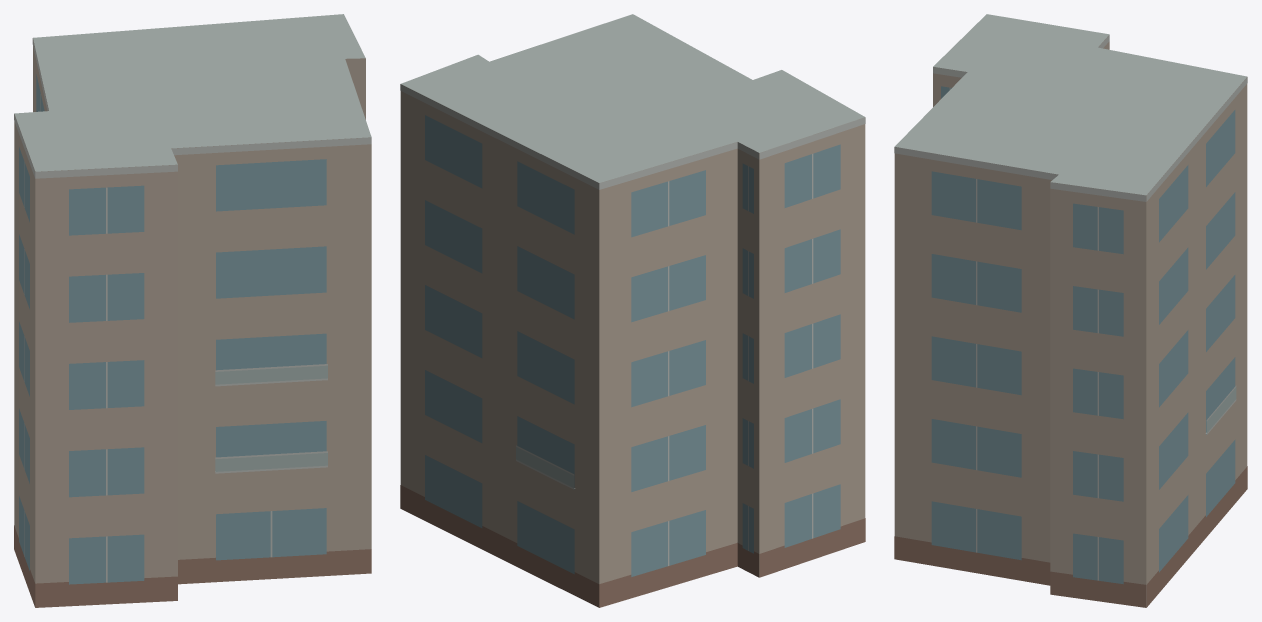
Rendered from survey-upis-33029967.glb.
The picture shows the model from 3 angles, left to right: view 1: azimuth 30°, elevation 25°; view 2: azimuth 150°, elevation 25°; view 3: azimuth 270°, elevation 25°; orthographic projection. The views are drawn at different scales.
Parts seen in each view (by area): view 1: survey-upis-33029967.tmp; view 2: survey-upis-33029967.tmp; view 3: survey-upis-33029967.tmp.
Boxes of the visible parts, box(x1,y1,x2,y2) form: survey-upis-33029967.tmp: box(14, 14, 371, 607); survey-upis-33029967.tmp: box(400, 14, 865, 607); survey-upis-33029967.tmp: box(894, 14, 1247, 607).
Bounding box in the file's own units: 14.39 × 15.25 × 11.84.
